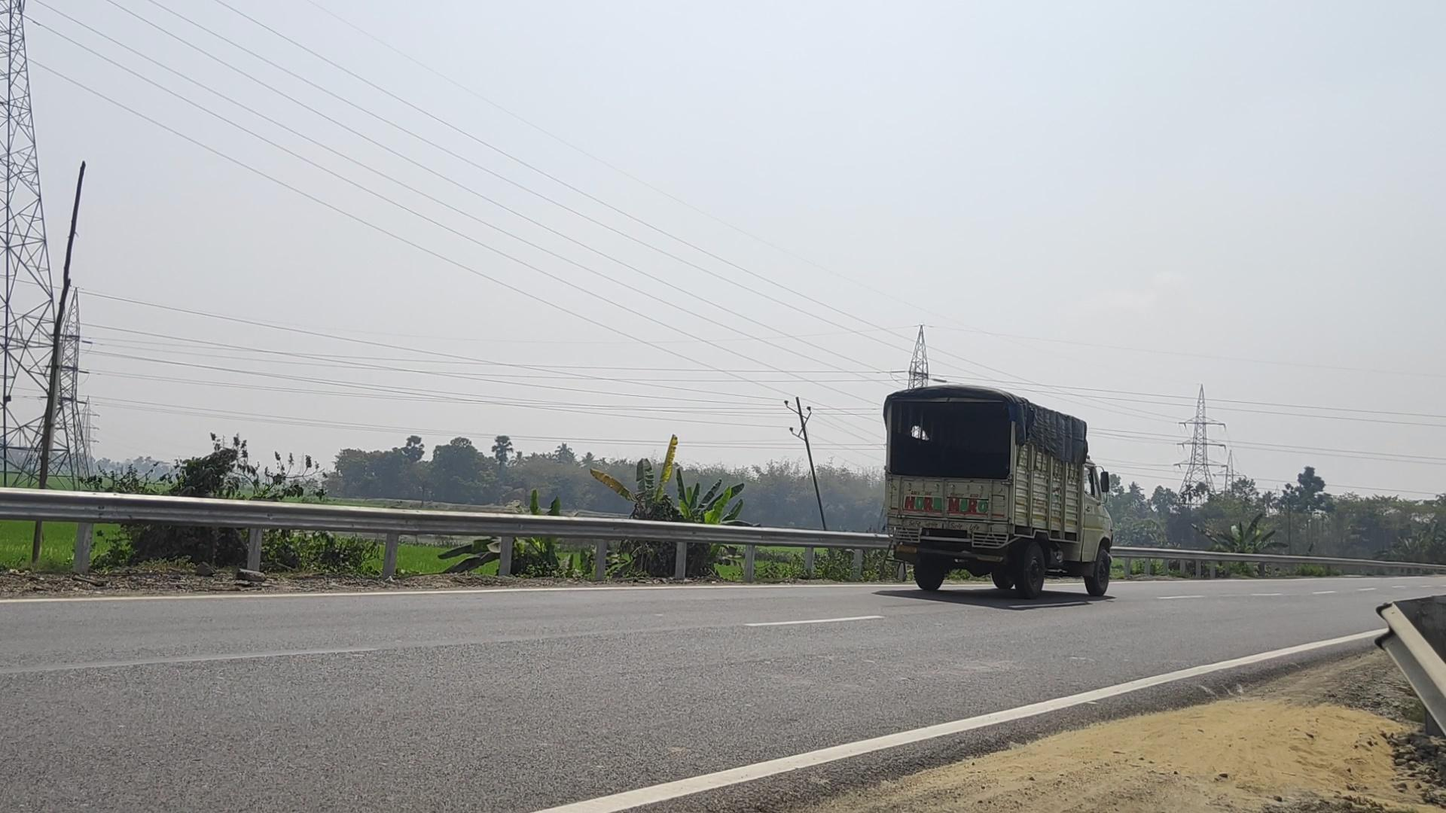truck: (883, 383, 1114, 598)
